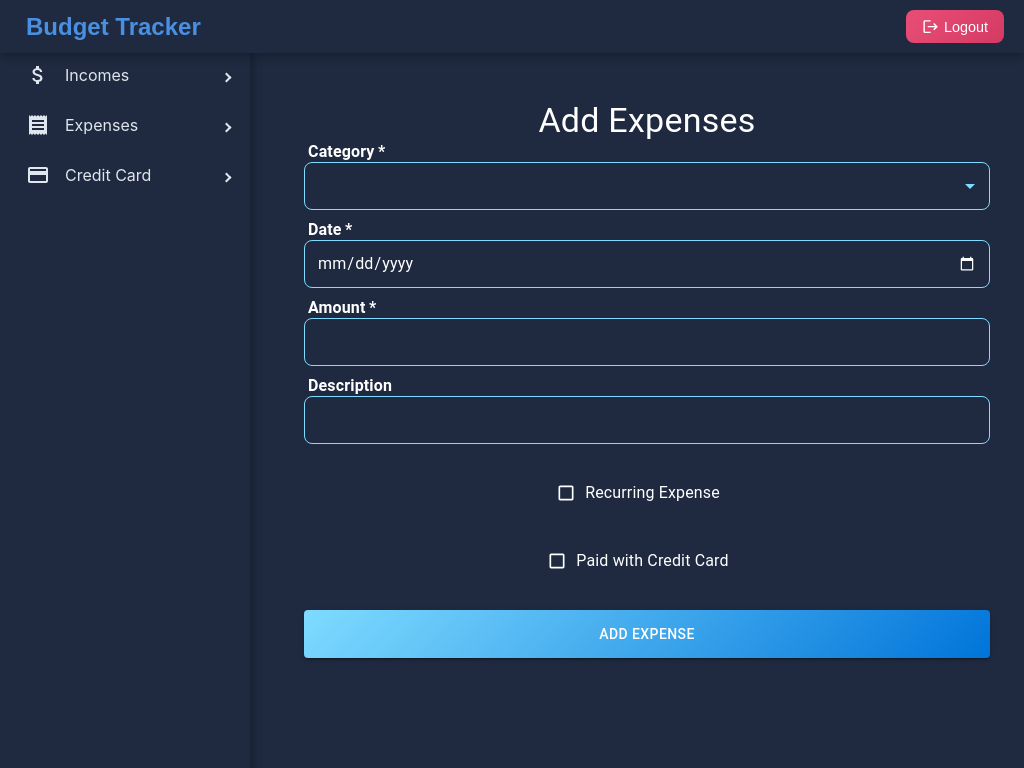
it: AddExpenses View › renders the form correctly
Expected: the heading "Add Expenses" is shown, x1=538 y1=100 x2=756 y2=140
Expected: the dropdown named "Category" is shown, x1=317 y1=150 x2=977 y2=222
Check for Installments after clicking "Paid with Credit Card"
Click the checkbox labelled "Paid with Credit Card" at (638, 561), box x1=547 y1=551 x2=729 y2=571
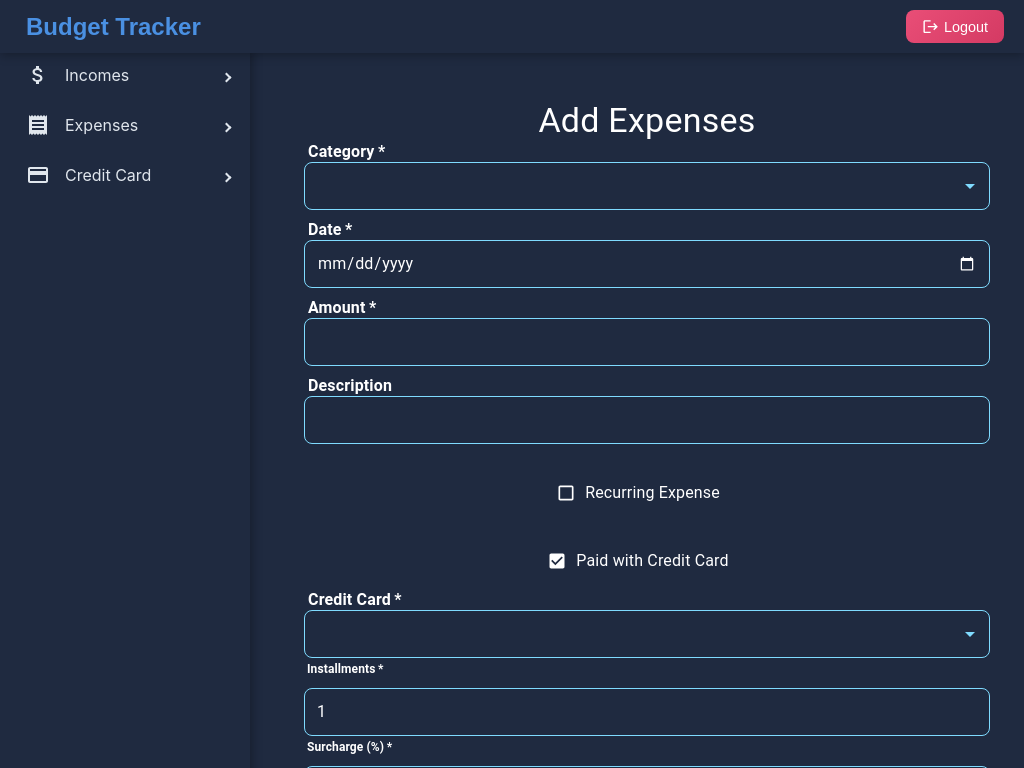
Expected: the number field labelled "Installments *" is shown, x1=317 y1=700 x2=977 y2=724
